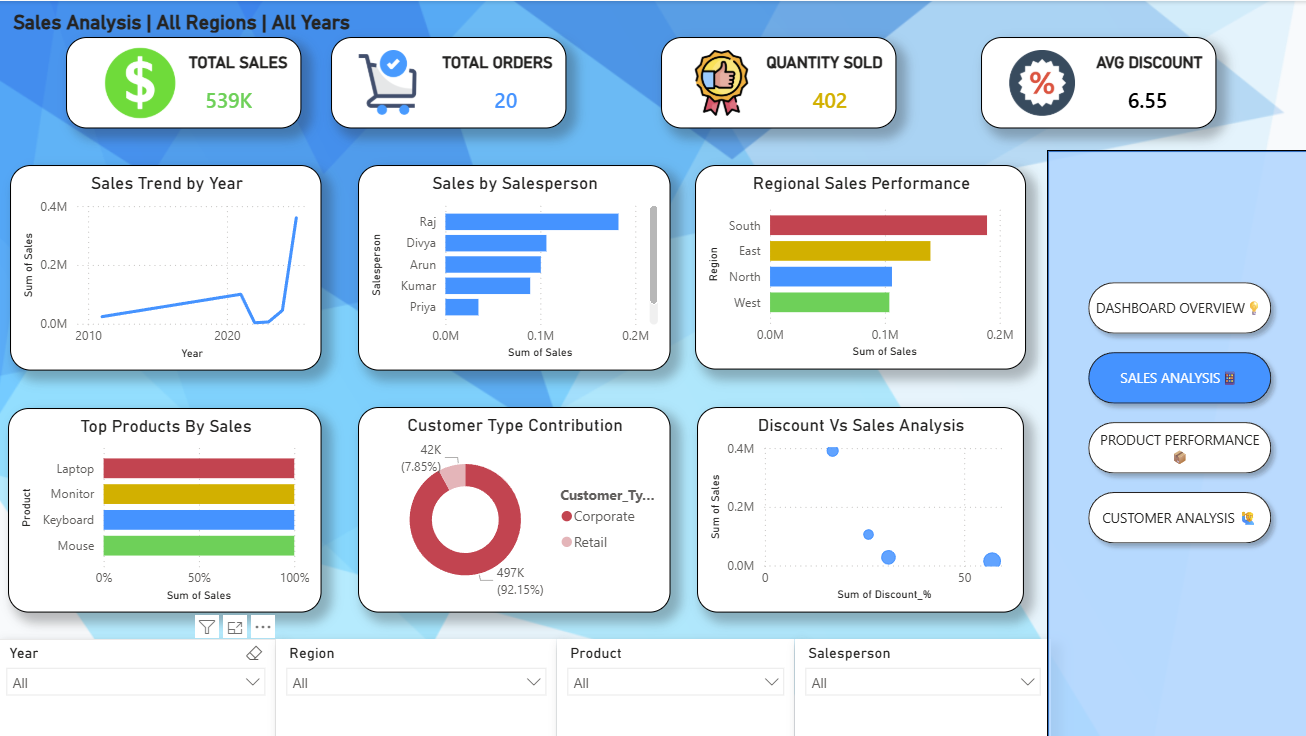

Layout of this report page (visuals, bound fields, positions):
{"tool":"powerbi","page":{"name":"SALES ANALYSIS📱","canvas":[1280,720],"ordinal":1},"visuals":[{"type":"cardVisual","title":"TOTAL SALES","fields":{"Data":["Sum(PRAVEENDATA(Sheet1).Sales)"]},"box":[68.1,35,228.6,89.5],"z":0},{"type":"image","box":[98.2,43.8,84.6,72],"z":1000},{"type":"cardVisual","title":"TOTAL ORDERS","fields":{"Data":["PRAVEENDATA(Sheet1).TOTAL ORDERS"]},"box":[325.8,35,228.6,89.5],"z":2000},{"type":"cardVisual","title":"QUANTITY SOLD","fields":{"Data":["PRAVEENDATA(Sheet1).TOTAL QUANTITY"]},"box":[646.8,35,228.6,89.5],"z":3000},{"type":"cardVisual","title":"AVG DISCOUNT","fields":{"Data":["PRAVEENDATA(Sheet1).AVERAGE DISCOUNT"]},"box":[958.1,35,228.6,89.5],"z":4000},{"type":"image","box":[342.4,47.7,76.8,63.2],"z":5000},{"type":"lineChart","title":"Sales Trend by Year","fields":{"Category":["PRAVEENDATA(Sheet1).Year"],"Y":["Sum(PRAVEENDATA(Sheet1).Sales)"]},"box":[13.6,159.5,303.5,200.4],"z":6000},{"type":"image","box":[670.2,47.7,71,64.2],"z":7000},{"type":"image","box":[977.5,47.7,79.8,64.2],"z":8000},{"type":"barChart","title":" Sales by Salesperson","fields":{"Category":["PRAVEENDATA(Sheet1).Salesperson"],"Y":["Sum(PRAVEENDATA(Sheet1).Sales)"]},"box":[352.6,159.4,303.7,200.1],"z":9000},{"type":"clusteredBarChart","title":"Regional Sales Performance","fields":{"Category":["PRAVEENDATA(Sheet1).Region"],"Y":["Sum(PRAVEENDATA(Sheet1).Sales)"]},"box":[679.6,159.4,322.3,199],"z":10000},{"type":"hundredPercentStackedBarChart","title":"Top Products By Sales","fields":{"Category":["PRAVEENDATA(Sheet1).Product"],"Y":["Sum(PRAVEENDATA(Sheet1).Sales)"]},"box":[11.7,395.9,305.4,199.4],"z":11000},{"type":"donutChart","title":"Customer Type Contribution","fields":{"Category":["PRAVEENDATA(Sheet1).Customer_Type"],"Y":["Sum(PRAVEENDATA(Sheet1).Sales)"]},"box":[352.6,394.5,303.7,200.1],"z":12000},{"type":"scatterChart","title":"Discount Vs Sales Analysis","fields":{"X":["Sum(PRAVEENDATA(Sheet1).Discount_%)"],"Y":["Sum(PRAVEENDATA(Sheet1).Sales)"],"Size":["Sum(PRAVEENDATA(Sheet1).Quantity)"],"Category":["PRAVEENDATA(Sheet1).Product"]},"box":[681.9,394.5,317.7,200.1],"z":13000},{"type":"slicer","fields":{"Values":["PRAVEENDATA(Sheet1).Year"]},"box":[0,620.5,272.3,99.2],"z":14000},{"type":"slicer","fields":{"Values":["PRAVEENDATA(Sheet1).Region"]},"box":[272.3,620.5,273.3,99.2],"z":15000},{"type":"slicer","fields":{"Values":["PRAVEENDATA(Sheet1).Product"]},"box":[545.7,620.5,231.5,99.2],"z":16000},{"type":"slicer","fields":{"Values":["PRAVEENDATA(Sheet1).Salesperson"]},"box":[777.1,620.5,249,99.2],"z":17000},{"type":"textbox","box":[11.7,8.8,352.1,26.3],"z":18000},{"type":"shape","box":[1022.2,144.9,257.8,574.8],"z":19000},{"type":"pageNavigator","box":[1053.4,264.6,196.5,274.3],"z":20000}]}

Visuals, with their boxes in screenshot pixels (x1, y1, x2, y2), scaled from the page's 1280x720 canvas onto the 1306x736 screenshot:
"TOTAL SALES" cardVisual: 69,36,303,127
image: 100,45,187,118
"TOTAL ORDERS" cardVisual: 332,36,566,127
"QUANTITY SOLD" cardVisual: 660,36,893,127
"AVG DISCOUNT" cardVisual: 978,36,1211,127
image: 349,49,428,113
"Sales Trend by Year" lineChart: 14,163,324,368
image: 684,49,756,114
image: 997,49,1079,114
" Sales by Salesperson" barChart: 360,163,670,367
"Regional Sales Performance" clusteredBarChart: 693,163,1022,366
"Top Products By Sales" hundredPercentStackedBarChart: 12,405,324,609
"Customer Type Contribution" donutChart: 360,403,670,608
"Discount Vs Sales Analysis" scatterChart: 696,403,1020,608
slicer - PRAVEENDATA(Sheet1).Year: 0,634,278,735
slicer - PRAVEENDATA(Sheet1).Region: 278,634,557,735
slicer - PRAVEENDATA(Sheet1).Product: 557,634,793,735
slicer - PRAVEENDATA(Sheet1).Salesperson: 793,634,1047,735
textbox: 12,9,371,36
shape: 1043,148,1305,735
pageNavigator: 1075,270,1275,551
